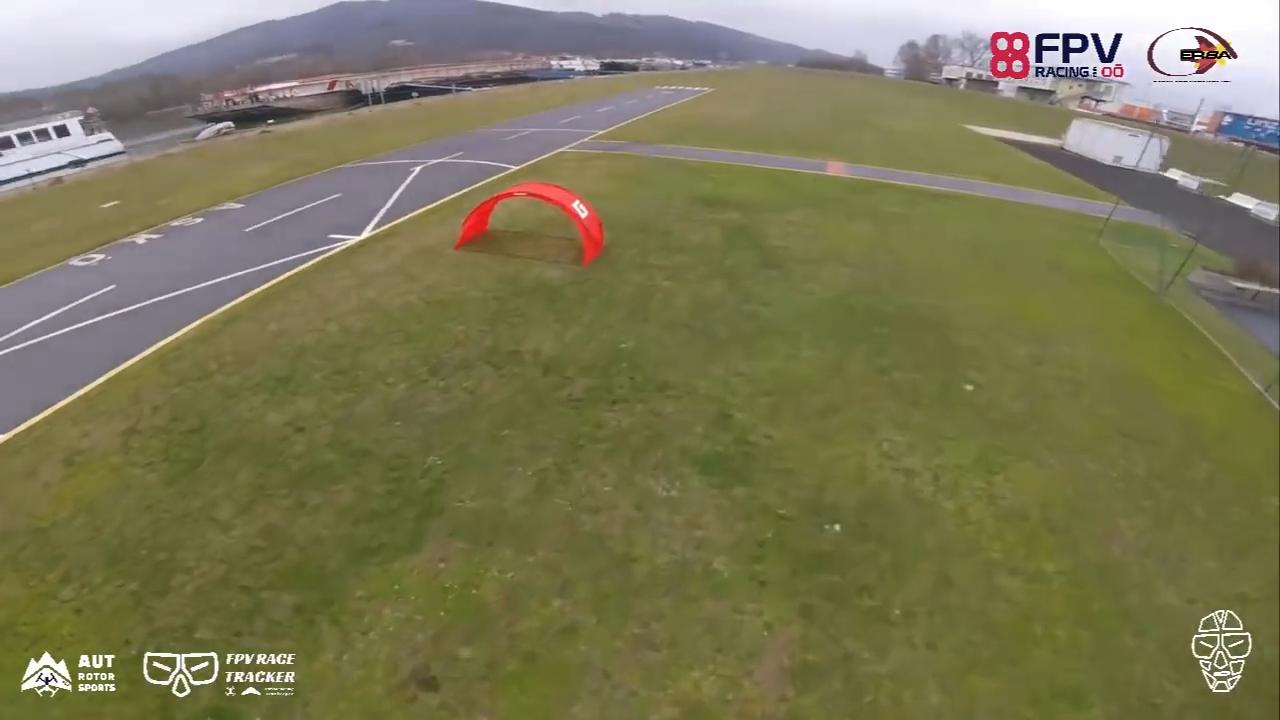gate: (451, 180, 607, 270)
